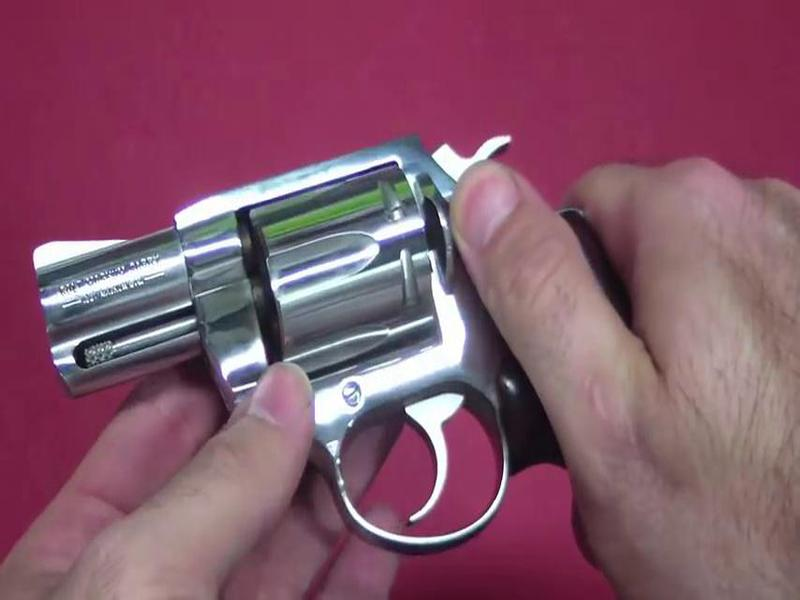Revolver: (37, 134, 656, 515)
